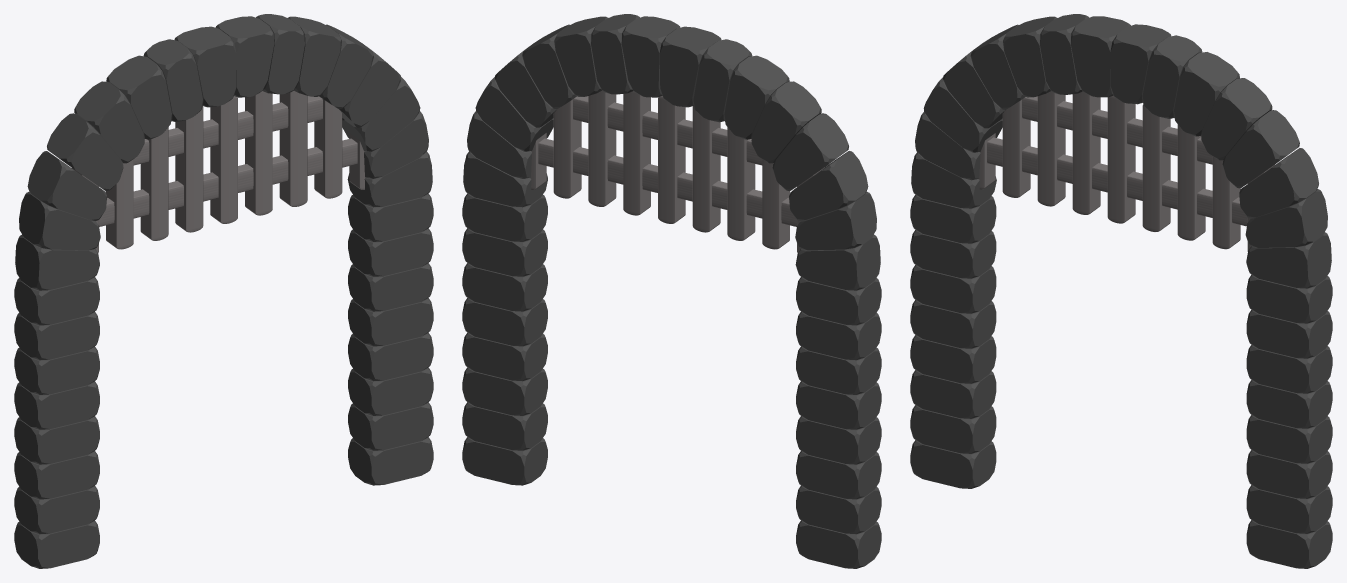
Rendered from ArcDoors.fbx.
The picture shows the model from 3 angles, left to right: view 1: azimuth 30°, elevation 25°; view 2: azimuth 150°, elevation 25°; view 3: azimuth 330°, elevation 25°; orthographic projection.
Visible parts, largest first — view 1: Arcway, ArcDoors; view 2: Arcway, ArcDoors; view 3: Arcway, ArcDoors.
Boxes of the visible parts, x1,y1,x2,y2 form: Arcway: (14,14,433,568); ArcDoors: (72,91,365,252); Arcway: (462,14,881,568); ArcDoors: (529,91,823,252); Arcway: (910,14,1332,568); ArcDoors: (978,91,1275,251).
Size of the model in its own units: 416 by 485 by 42.84.
